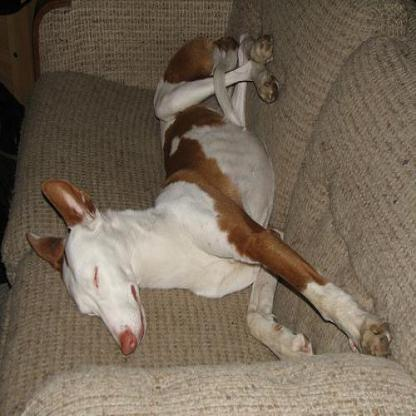dog: (38, 23, 394, 372)
